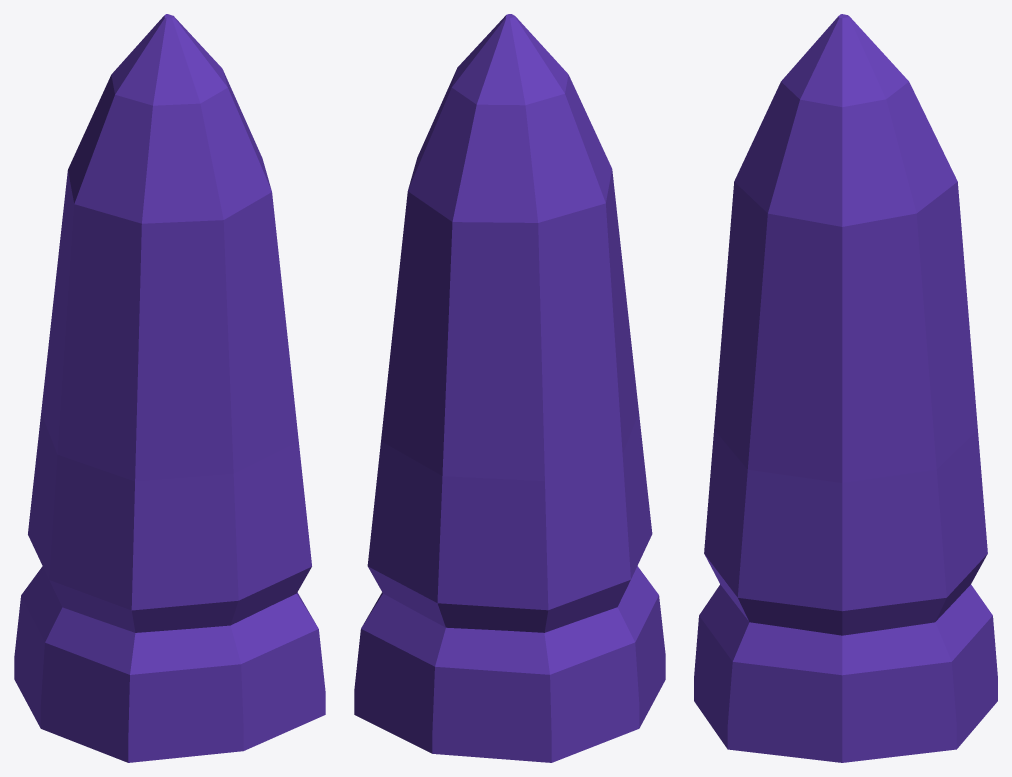
The model's file is pistolbullet.fbx.
The picture shows the model from 3 angles, left to right: view 1: azimuth 30°, elevation 25°; view 2: azimuth 150°, elevation 25°; view 3: azimuth 270°, elevation 25°; orthographic projection.
Parts seen in each view (by area): view 1: Cube; view 2: Cube; view 3: Cube.
Boxes of the visible parts, <box> form: Cube: <box>14,14,325,762</box>; Cube: <box>354,14,665,762</box>; Cube: <box>694,14,997,762</box>.
Size of the model in its own units: 259 by 659 by 265.
